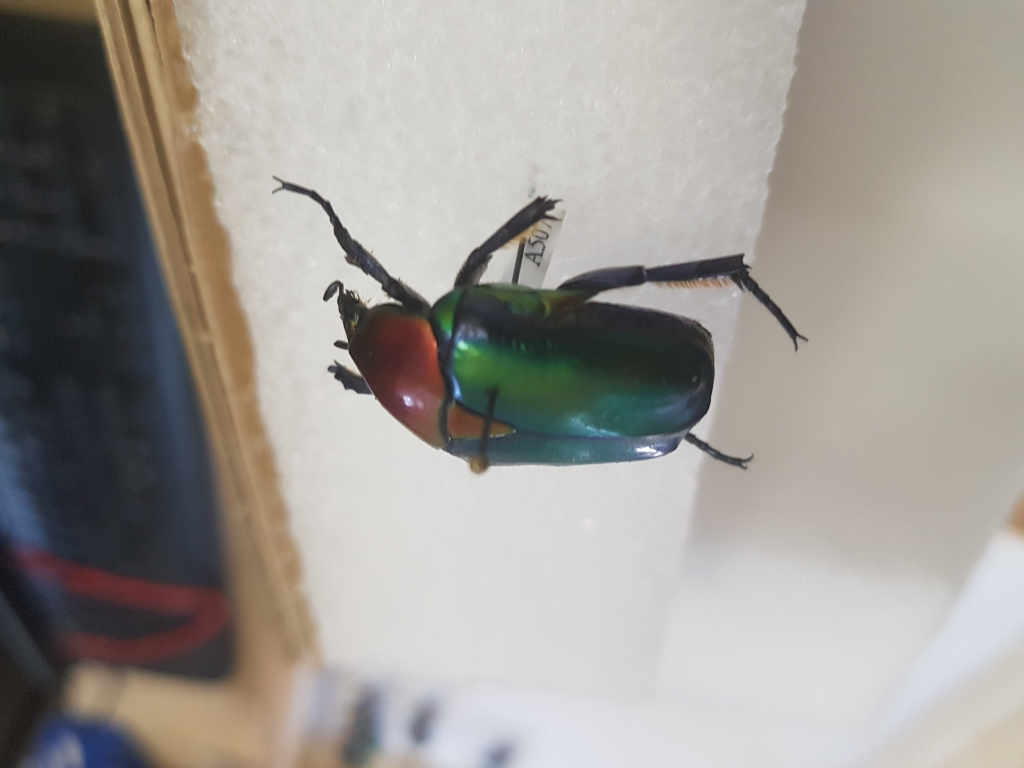Protaetia_speciosa_jousseliniw: (247, 168, 818, 478)
